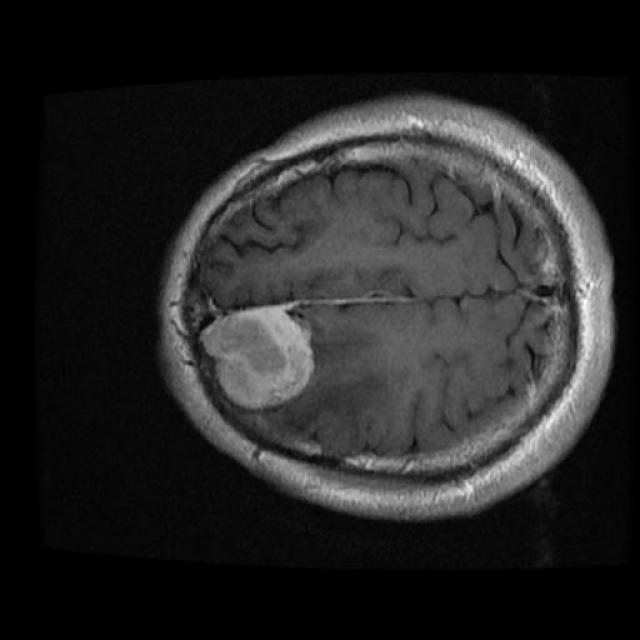Meningioma: (199, 303, 313, 409)
